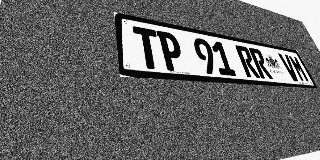1: (209, 40, 236, 76)
9: (192, 37, 220, 75)
M: (288, 55, 310, 82)
P: (156, 30, 186, 72)
R: (235, 45, 260, 78), (248, 47, 273, 79)
T: (132, 26, 163, 70)
V: (278, 53, 301, 81)
